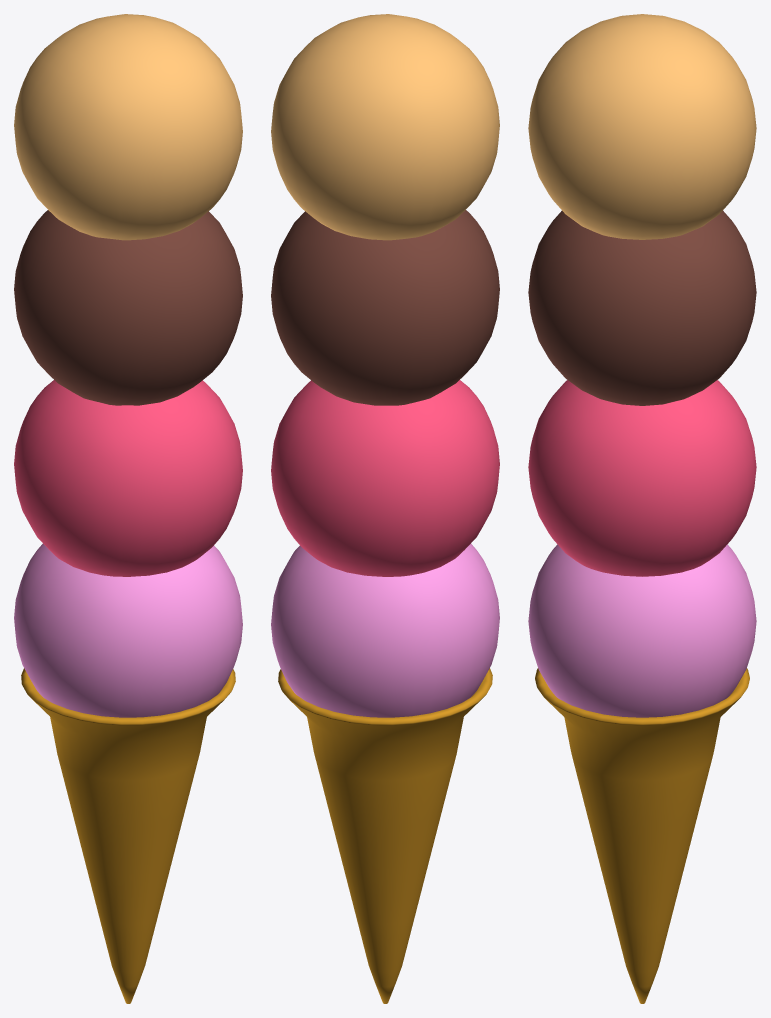
Rendered from Gelato.fbx.
3 views of the same model, side by side, from view 1: azimuth 30°, elevation 25°; view 2: azimuth 150°, elevation 25°; view 3: azimuth 270°, elevation 25° (orthographic).
Parts seen in each view (by area): view 1: Cube.004, Cube.002, Cube.003, Cube, Circle; view 2: Cube.004, Cube.002, Cube.003, Cube, Circle; view 3: Cube.004, Cube.002, Cube.003, Cube, Circle.
Boxes of the visible parts, bbox=[...] form: Cube.004: bbox=[14, 14, 242, 240]; Cube.002: bbox=[14, 380, 242, 576]; Cube.003: bbox=[14, 210, 242, 405]; Cube: bbox=[14, 544, 242, 717]; Circle: bbox=[21, 668, 235, 1003]; Cube.004: bbox=[271, 14, 499, 240]; Cube.002: bbox=[271, 380, 499, 576]; Cube.003: bbox=[271, 210, 499, 405]; Cube: bbox=[271, 544, 499, 717]; Circle: bbox=[278, 668, 492, 1003]; Cube.004: bbox=[528, 14, 756, 239]; Cube.002: bbox=[528, 380, 756, 576]; Cube.003: bbox=[528, 211, 756, 405]; Cube: bbox=[528, 544, 756, 717]; Circle: bbox=[535, 668, 749, 1003].
Bounding box in the file's own units: 221 × 1047 × 221.
